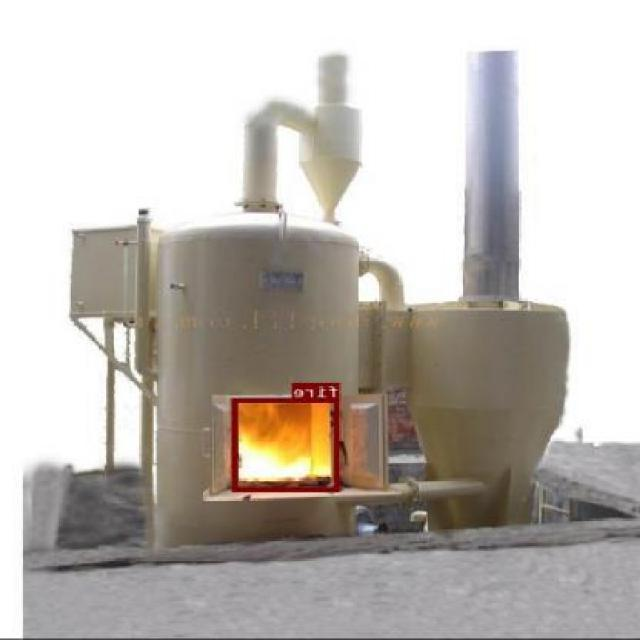Fire: (233, 398, 341, 490)
